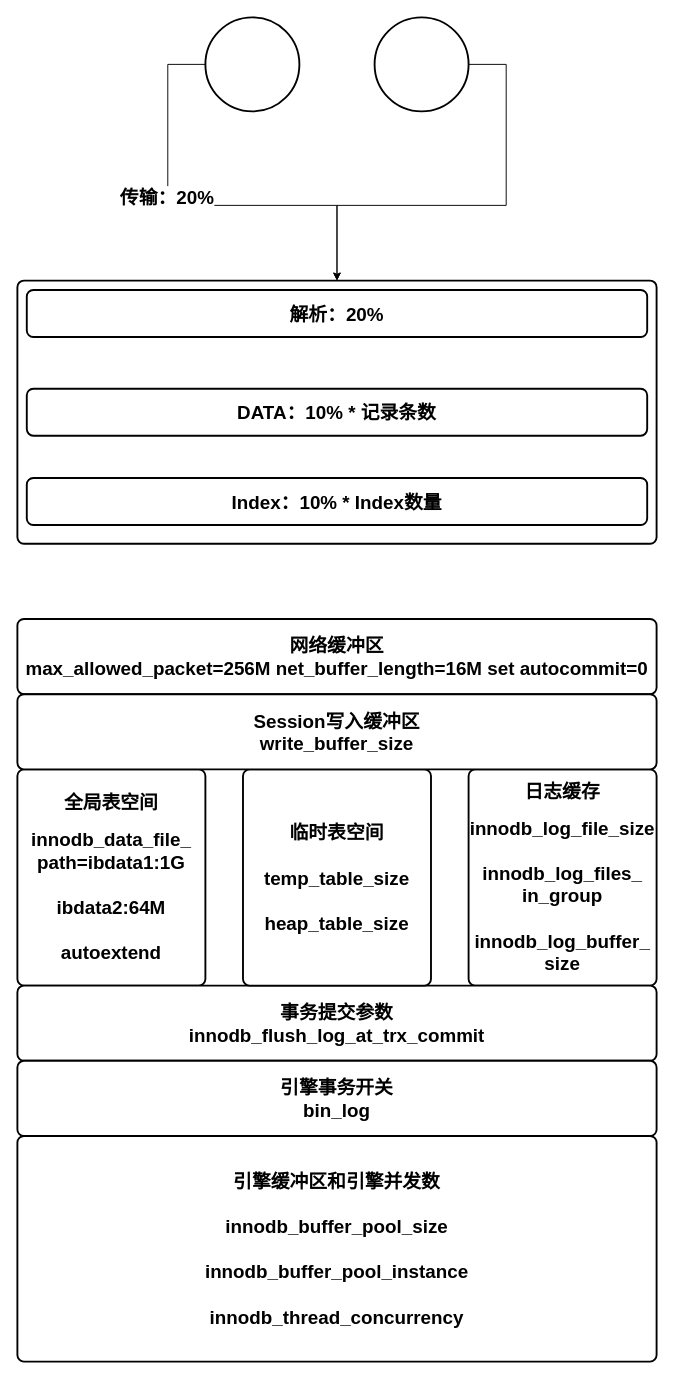
Some shapes in this 673 by 1378 pixel diagram are drawn without their labels. The centre of each missing label's shape, as x and y in pixels:
"Client 关闭 10%" belongs at (x=421, y=64).
"Client 链接 30%" belongs at (x=252, y=64).
